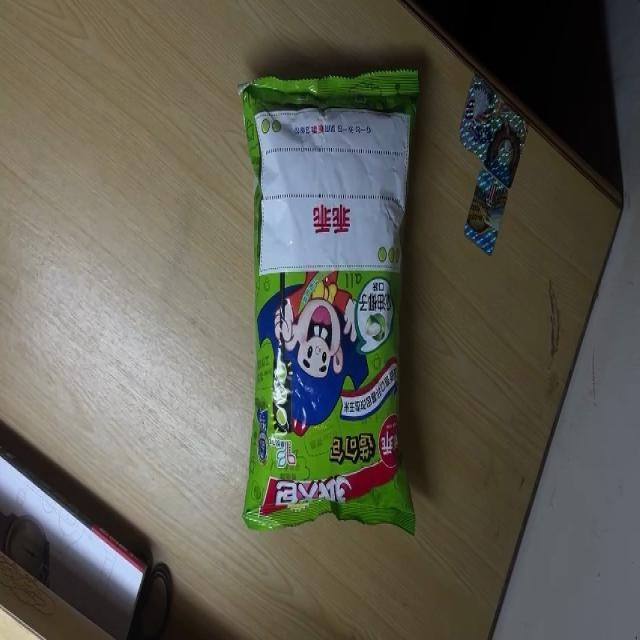Good-Luck: (238, 70, 420, 538)
